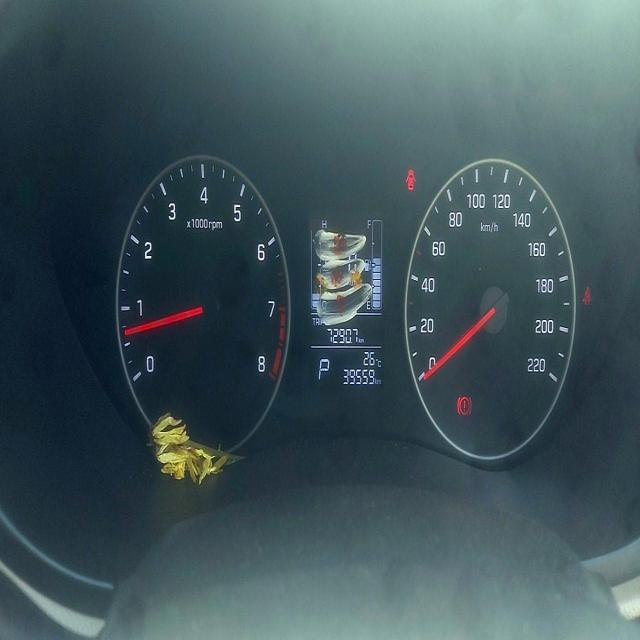odometer: (339, 365, 376, 390)
